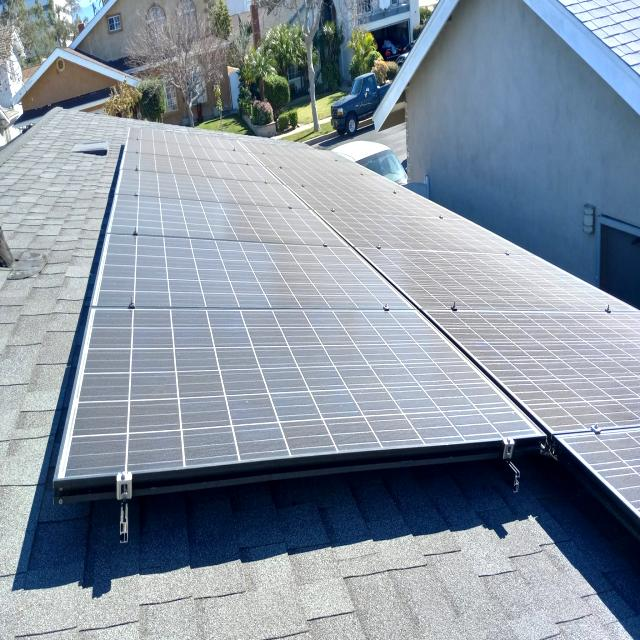dust: (105, 311, 233, 453), (266, 330, 402, 430), (394, 230, 526, 296), (212, 240, 360, 294), (522, 332, 622, 411), (128, 132, 218, 198), (240, 152, 346, 208), (108, 237, 198, 300), (418, 372, 473, 434), (448, 310, 506, 366), (362, 192, 412, 228)
